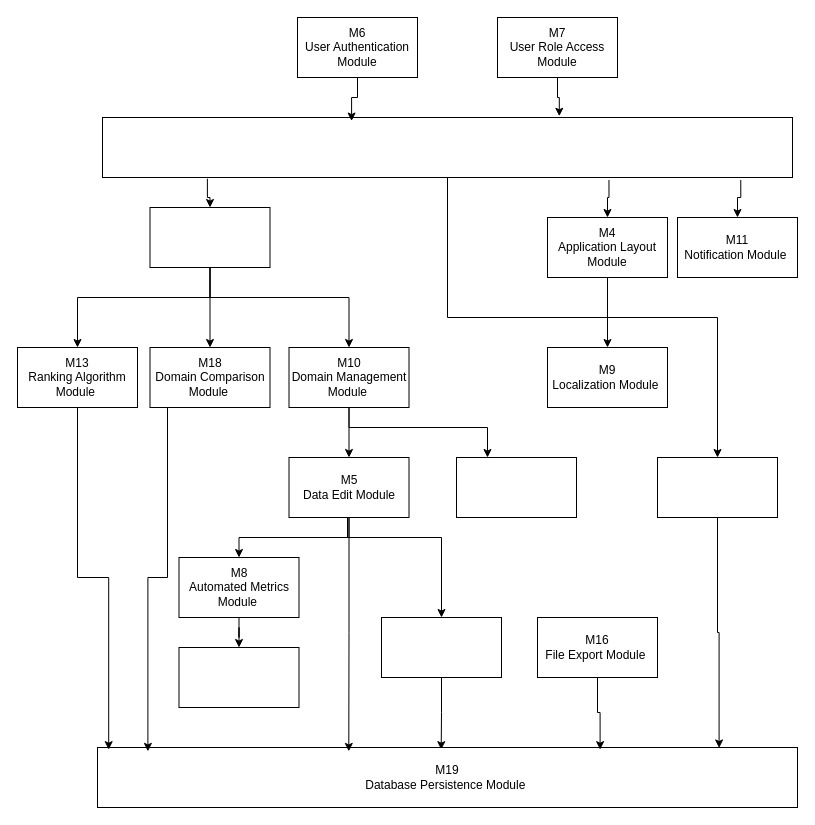
The diagram is 815 pixels wide and 825 high, and some of its shapes have lost their labels. The centre of each missing label's shape, as x and y in pixels:
M12 System API Module: point (447, 147)
M14 Graphing Module: point (516, 487)
M15 File Import Module: point (441, 647)
M17 Repository API Module: point (238, 677)
M20 Logging Module: point (717, 487)
M3 Domain View Module: point (209, 237)
